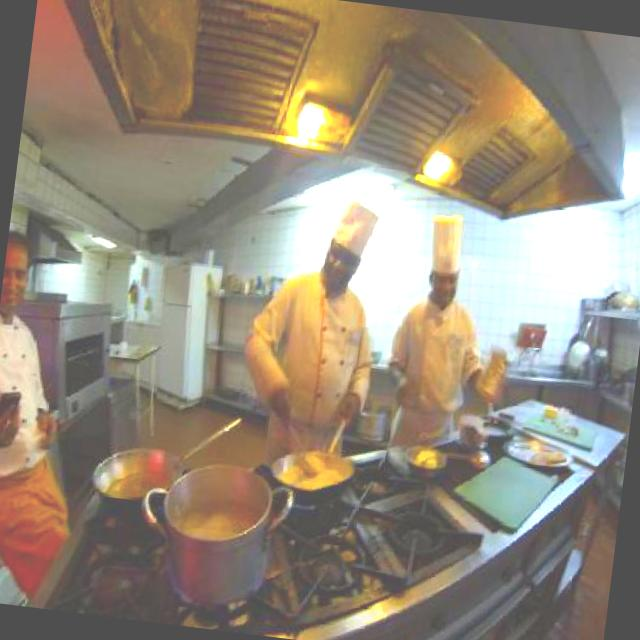Person: (0, 159, 501, 640), (228, 188, 392, 478)
